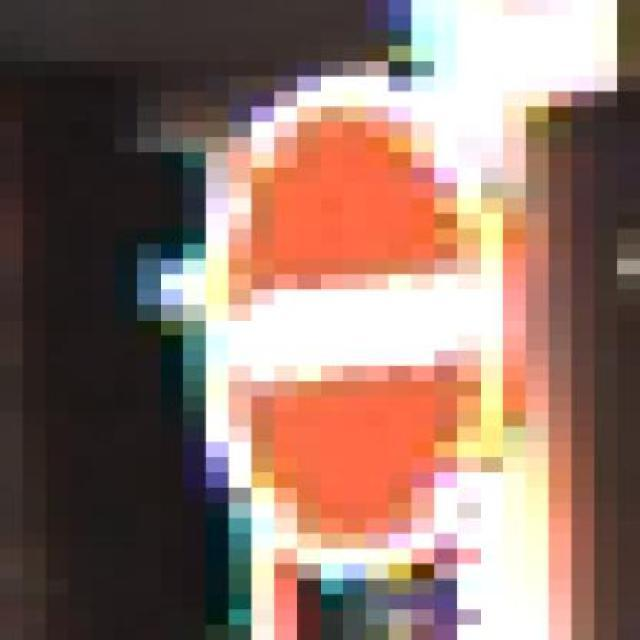B2: (188, 79, 508, 565)
